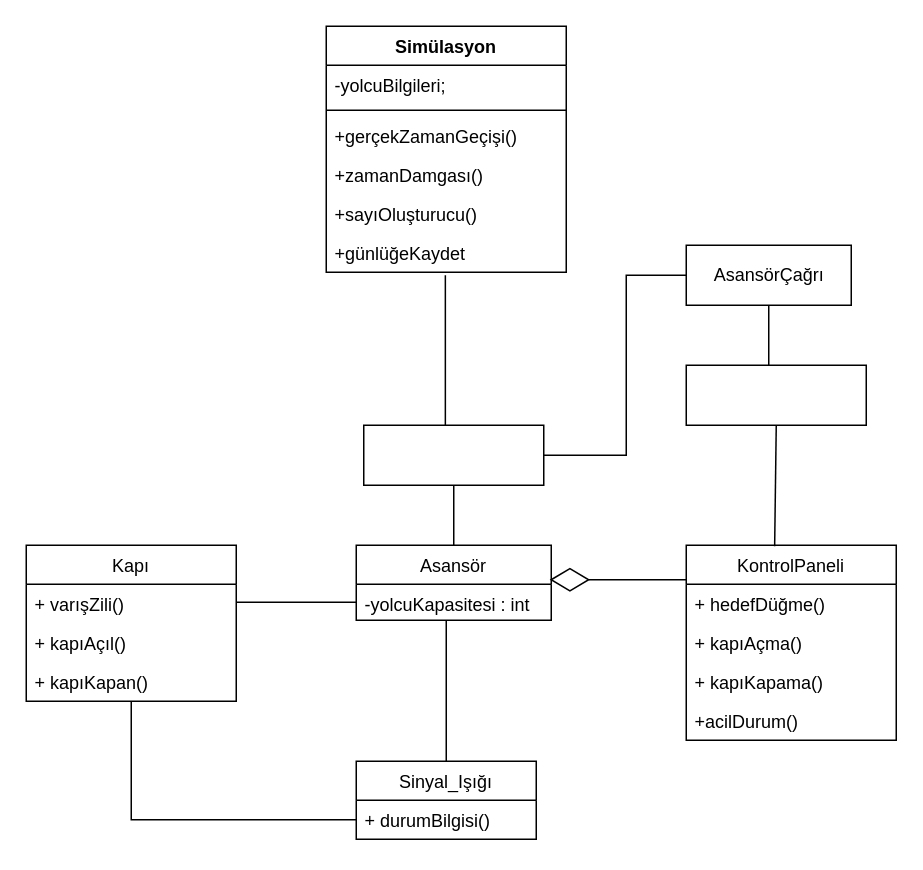
Image size: 923x870. Some labels were removed from this diagram. The shapes that lost their labels are listed below. From the top down, each one's centre as x and y in pixels, then its label:
At point (775, 394): "Yolcu".
At point (453, 454): "Kat".
